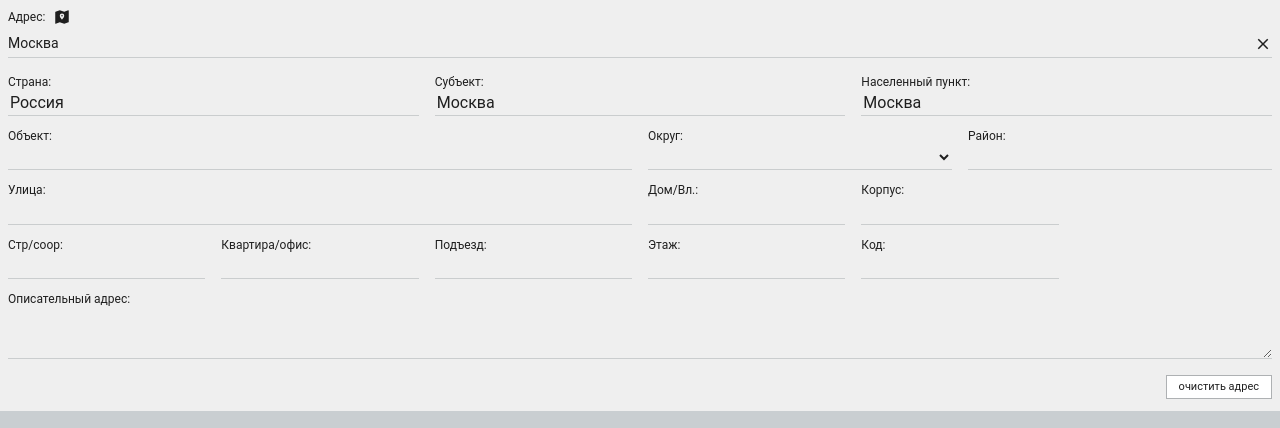
Test: Operator112AddressField › умолчания Россия / Москва / Москва; «очистить адрес» возвращает их после правки
The width and height of the screenshot is (1280, 428).
Check: the field labelled "Страна:" holds "Россия", box [8, 90, 419, 116]
Check: the field labelled "Населенный пункт:" holds "Москва", box [861, 90, 1272, 116]
Replace the text in the field labelled "Субъект:" with "Тверская область" at (640, 103), box [435, 90, 845, 116]
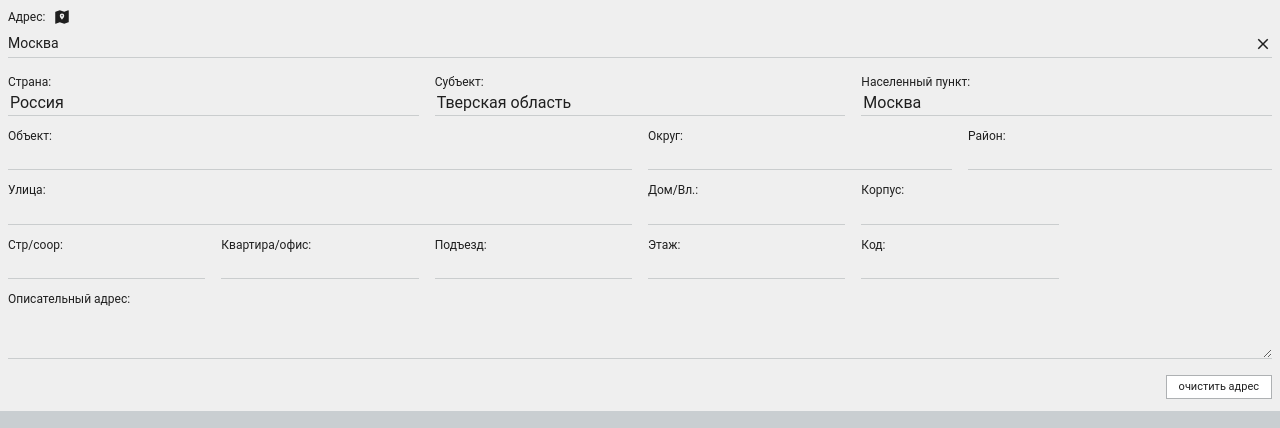
Replace the text in the field labelled "Страна:" with "Беларусь" at (213, 103), box [8, 90, 419, 116]
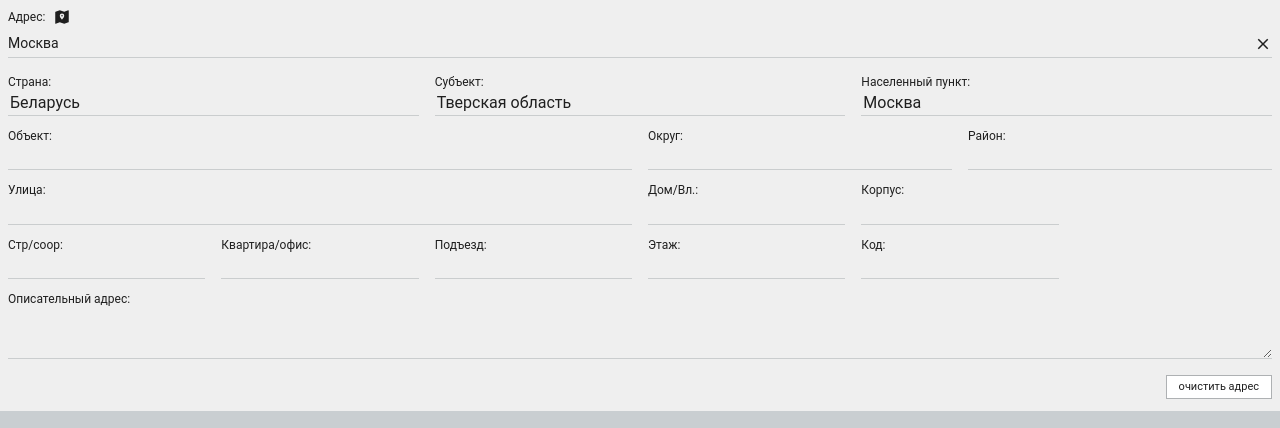
Type "12" into the field labelled "Квартира/офис:" at (320, 266), box [221, 253, 419, 279]
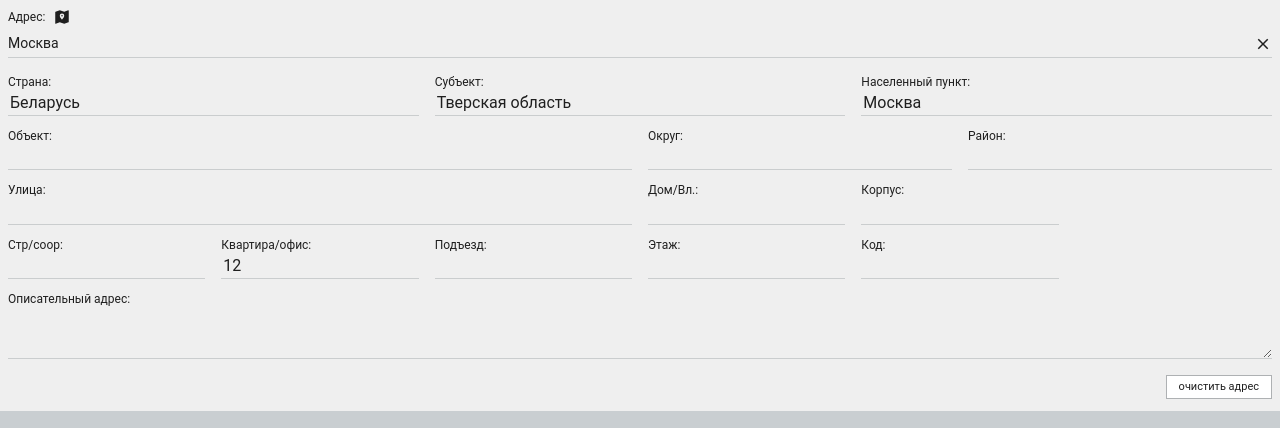
Click the button "очистить адрес" at (1219, 387), box [1166, 375, 1272, 399]
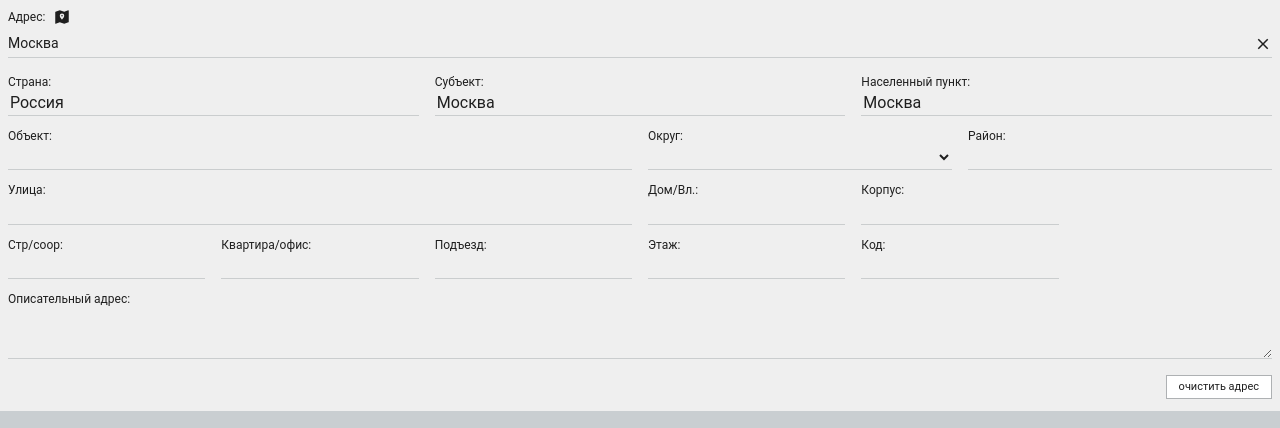
Check: the field labelled "Страна:" holds "Россия", box [8, 90, 419, 116]
Check: the field labelled "Квартира/офис:" is empty, box [221, 253, 419, 279]
